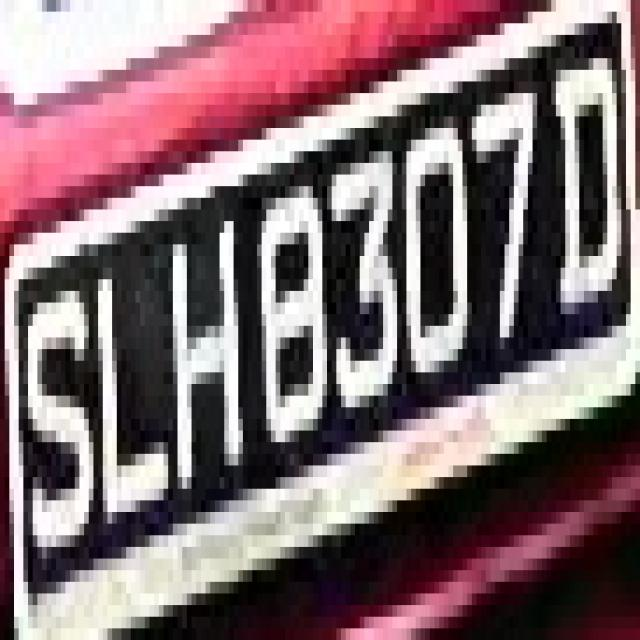0: (392, 104, 477, 396)
3: (327, 140, 397, 466)
7: (458, 59, 537, 372)
8: (252, 151, 332, 489)
D: (532, 47, 622, 349)
H: (154, 198, 243, 500)
L: (89, 221, 182, 559)
S: (23, 256, 94, 570)
